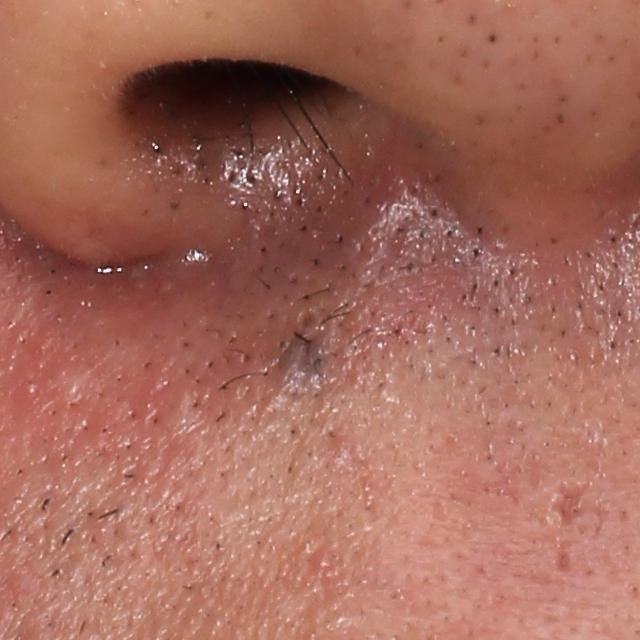atrophic_scar: (544, 465, 610, 543), (548, 544, 577, 575)
